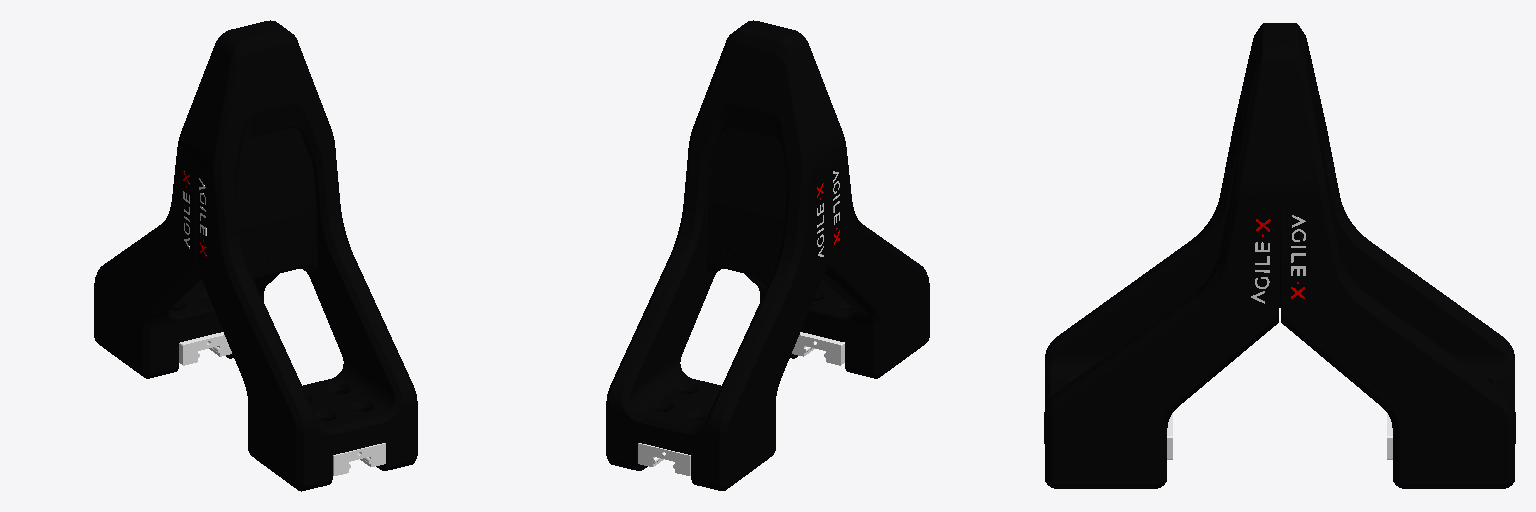
robot.urdf — pika2_gripper:
<?xml version="1.0"?>
<robot name="pika2_gripper">
    
    <link name="gripper_base_link">
        <inertial>
            <origin
                xyz="0.037477 -8.1437E-07 0.0084053"
                rpy="0 0 0" />
            <mass
                value="0.18972" />
            <inertia
                ixx="0.0002159"
                ixy="3.3333E-08"
                ixz="-2.6278E-06"
                iyy="0.00014308"
                iyz="1.6782E-08"
                izz="0.00011036" />
            </inertial>
        <visual>
            <origin
                xyz="0 0 0"
                rpy="0 0 0" />
            <geometry>
                <mesh filename="package://agx_arm_description/meshes/pika_gripper_base.dae"/>
            </geometry>
        </visual>
        <collision>
            <origin
                xyz="0 0 0"
                rpy="0 0 0" />
            <geometry>
                <mesh filename="package://agx_arm_description/meshes/pika_gripper_base.dae"/>
            </geometry>
        </collision>
    </link>

    <link name="gripper_left_link">
        <inertial>
        <origin
            xyz="0.033255 -0.014661 -0.0057614"
            rpy="0 0 0" />
        <mass
            value="0.033674" />
        <inertia
            ixx="1.5284E-05"
            ixy="1.4473E-05"
            ixz="1.4911E-08"
            iyy="3.448E-05"
            iyz="-4.3614E-09"
            izz="3.9744E-05" />
        </inertial>
        <visual>
            <origin
                xyz="0 0 0"
                rpy="-1.57 0 1.57" />
            <geometry>
                <mesh filename="package://agx_arm_description/meshes/gripper_left_link.dae"/>
            </geometry>
        </visual>
        <collision>
            <origin
                xyz="0 0 0"
                rpy="-1.57 0 1.57" />
            <geometry>
                <mesh filename="package://agx_arm_description/meshes/gripper_left_link.dae"/>
            </geometry>
        </collision>
    </link>

    <joint name="left_joint" type="prismatic">
        <origin xyz="0.0 0.041 0.08" rpy="1.57 0.0 0.0"/>
        <parent link="gripper_base_link"/>
        <child link="gripper_left_link"/>
        <axis xyz="0.0 0 -1"/>
        <limit effort="100" lower="0.0" upper="0.05" velocity="1"/>
    </joint>

    <link name="gripper_right_link">
        <inertial>
        <origin
            xyz="0.033255 0.014661 -0.0058113"
            rpy="0 0 0" />
        <mass
            value="0.033674" />
        <inertia
            ixx="1.5284E-05"
            ixy="-1.4473E-05"
            ixz="-1.4956E-08"
            iyy="3.448E-05"
            iyz="-4.3614E-09"
            izz="3.9744E-05" />
        </inertial>
        <visual>
            <origin
                xyz="0 0 0"
                rpy="1.57 0 -1.57" />
            <geometry>
                <mesh filename="package://agx_arm_description/meshes/gripper_right_link.dae"/>
            </geometry>
        </visual>
        <collision>
            <origin
                xyz="0 0 0"
                rpy="1.57 0 -1.57" />
            <geometry>
                <mesh filename="package://agx_arm_description/meshes/gripper_right_link.dae"/>
            </geometry>
        </collision>
    </link>

    <joint name="right_joint" type="prismatic">
        <origin xyz="0.0 -0.041 0.08" rpy="-1.57 0.0 0.0"/>
        <parent link="gripper_base_link"/>
        <child link="gripper_right_link"/>
        <axis xyz="0.0 0 1"/>
        <limit effort="100" lower="-0.05" upper="0" velocity="1"/>
    </joint>
</robot>

--- Facts derived from the render (not from the file) ---
Views: 3 orthographic renders of the robot side by side, from view 1: azimuth 30°, elevation 25°; view 2: azimuth 150°, elevation 25°; view 3: azimuth 270°, elevation 25°.
Robot: pika2_gripper — 3 links, 2 joints (2 prismatic); root link gripper_base_link; default pose: every joint at zero.
Visible links, largest first — view 1: gripper_right_link, gripper_left_link; view 2: gripper_left_link, gripper_right_link; view 3: gripper_left_link, gripper_right_link.
Boxes of the visible links, left/top/right/bottom form: gripper_right_link: left=196, top=26, right=417, bottom=491; gripper_left_link: left=94, top=20, right=282, bottom=378; gripper_left_link: left=606, top=26, right=827, bottom=490; gripper_right_link: left=741, top=20, right=929, bottom=378; gripper_left_link: left=1279, top=23, right=1515, bottom=488; gripper_right_link: left=1044, top=23, right=1280, bottom=488.
Size in the robot's own frame: 0.0384 by 0.1131 by 0.1122 metres.
Meshes: 3 distinct files referenced, 2 mesh visuals loaded (2 Collada DAE); not drawn: 1 (reference not matched to a file when rendering).
